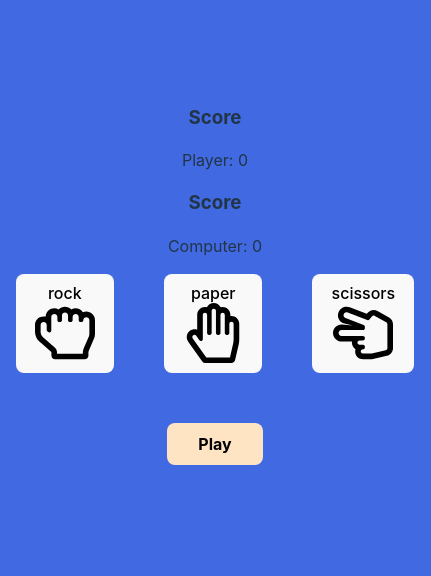
Test: ScoreAndResults › should display 2 seconds on the screen after we wait 1 second second
Step 1. Click the button "paper" → (213, 323), box [164,274,262,373]
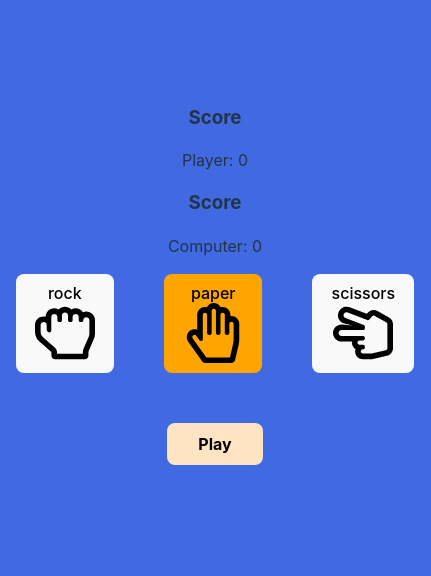
Step 2. Click the button "Play" → (215, 444), box [167,423,263,465]
Wait 1000 ms
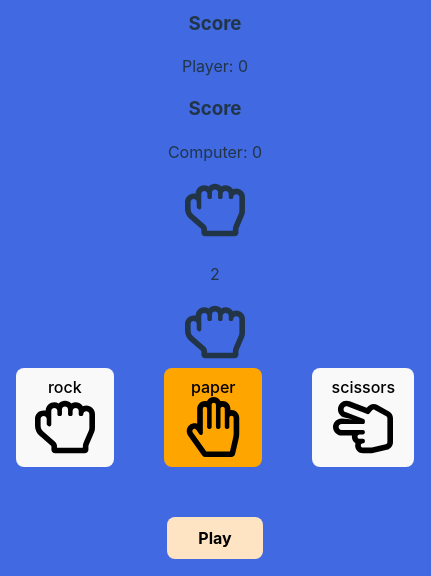
Now the text with test id "timer" reads "2", box [210,264,220,284]
